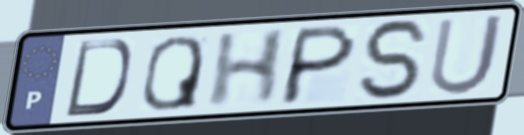D: (61, 37, 135, 119)
H: (203, 25, 293, 112)
P: (274, 21, 361, 107)
Q: (138, 33, 206, 113)
S: (357, 16, 435, 103)
U: (425, 11, 509, 98)
